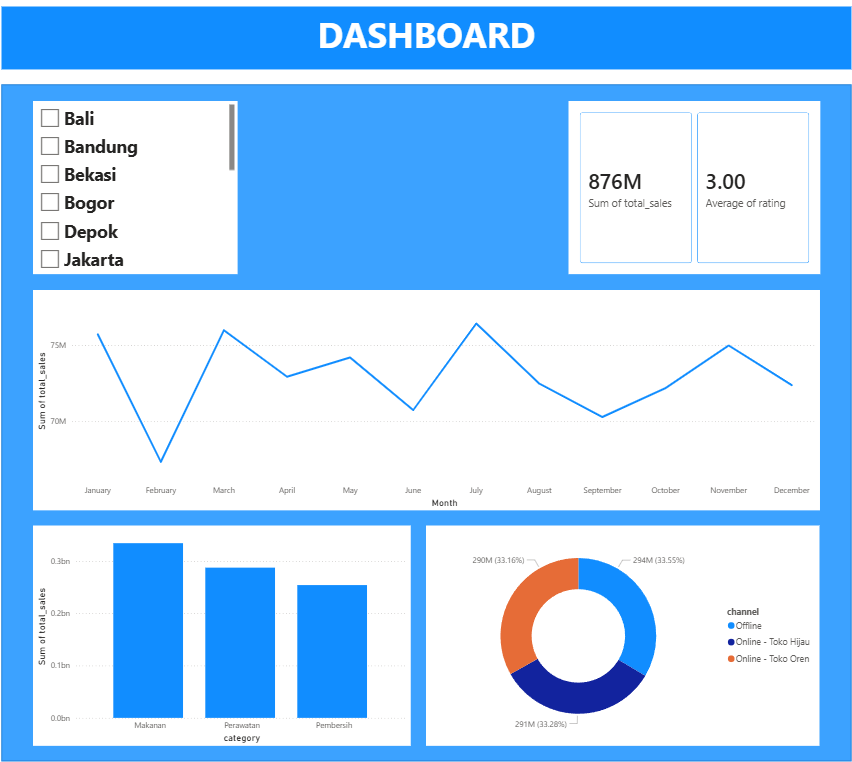

This screenshot's page, from the dashboard's own definition file:
{"tool":"powerbi","page":{"name":"Page 1","canvas":[1400,1200],"ordinal":0},"visuals":[{"type":"shape","box":[48,168,1296,1032],"z":0},{"type":"cardVisual","fields":{"Data":["Sum(Data FMCG_BT Data Analyst - Mes.total_sales)","Avg(Data FMCG_BT Data Analyst - Mes.rating)"]},"box":[912,192,384,264],"z":1000},{"type":"clusteredColumnChart","fields":{"Category":["Data FMCG_BT Data Analyst - Mes.category"],"Y":["Sum(Data FMCG_BT Data Analyst - Mes.total_sales)"]},"box":[96,840,576,336],"z":2000},{"type":"lineChart","fields":{"Category":["Data FMCG_BT Data Analyst - Mes.sales_date.Variation.Date Hierarchy.Month"],"Y":["Sum(Data FMCG_BT Data Analyst - Mes.total_sales)"]},"box":[96,480,1200,336],"z":3000},{"type":"donutChart","fields":{"Category":["Data FMCG_BT Data Analyst - Mes.channel"],"Y":["Sum(Data FMCG_BT Data Analyst - Mes.total_sales)"]},"box":[696,840,600,336],"z":4000},{"type":"slicer","fields":{"Values":["Data FMCG_BT Data Analyst - Mes.customer_address"]},"box":[96,192,312,264],"z":5000},{"type":"textbox","box":[48,48,1296,96],"z":7000}]}

Visuals, with their boxes in screenshot pixels (x1, y1, x2, y2):
shape: bbox=(0, 82, 836, 747)
cardVisual - Sum(Data FMCG_BT Data Analyst - Mes.total_sales) x Avg(Data FMCG_BT Data Analyst - Mes.rating): bbox=(557, 97, 805, 268)
clusteredColumnChart - Data FMCG_BT Data Analyst - Mes.category x Sum(Data FMCG_BT Data Analyst - Mes.total_sales): bbox=(31, 515, 402, 732)
lineChart - Data FMCG_BT Data Analyst - Mes.sales_date.Variation.Date Hierarchy.Month x Sum(Data FMCG_BT Data Analyst - Mes.total_sales): bbox=(31, 283, 805, 500)
donutChart - Data FMCG_BT Data Analyst - Mes.channel x Sum(Data FMCG_BT Data Analyst - Mes.total_sales): bbox=(418, 515, 805, 732)
slicer - Data FMCG_BT Data Analyst - Mes.customer_address: bbox=(31, 97, 232, 268)
textbox: bbox=(0, 4, 836, 66)
